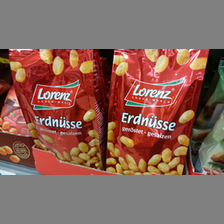nuts: (104, 50, 209, 174), (8, 49, 106, 170)
